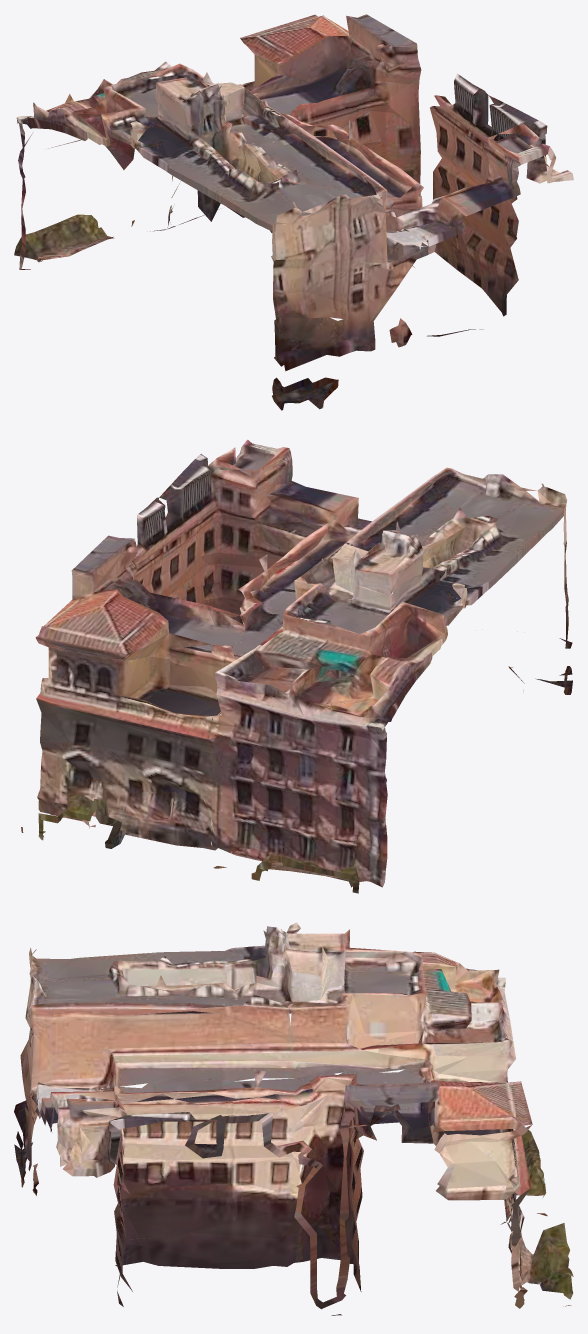
The picture shows the model from 3 angles, top to bottom: view 1: azimuth 30°, elevation 25°; view 2: azimuth 150°, elevation 25°; view 3: azimuth 270°, elevation 25°; orthographic projection. The views are drawn at different scales.
Visible parts, largest first — view 1: Mesh_0; view 2: Mesh_0; view 3: Mesh_0.
Part boxes in pixels (box(x1,y1,x2,y2)): Mesh_0: box(14, 14, 573, 410); Mesh_0: box(21, 439, 572, 893); Mesh_0: box(14, 922, 573, 1315).
Bounding box in the file's own units: 33.19 × 21.84 × 41.39.
1 material, 1 textured.
